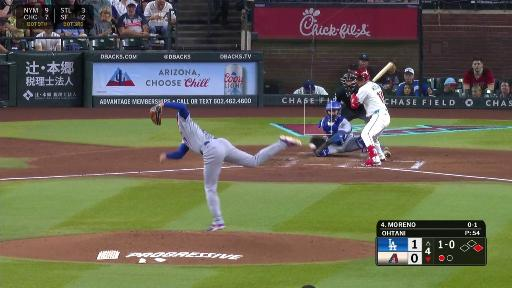pitcher: (149, 101, 302, 232)
